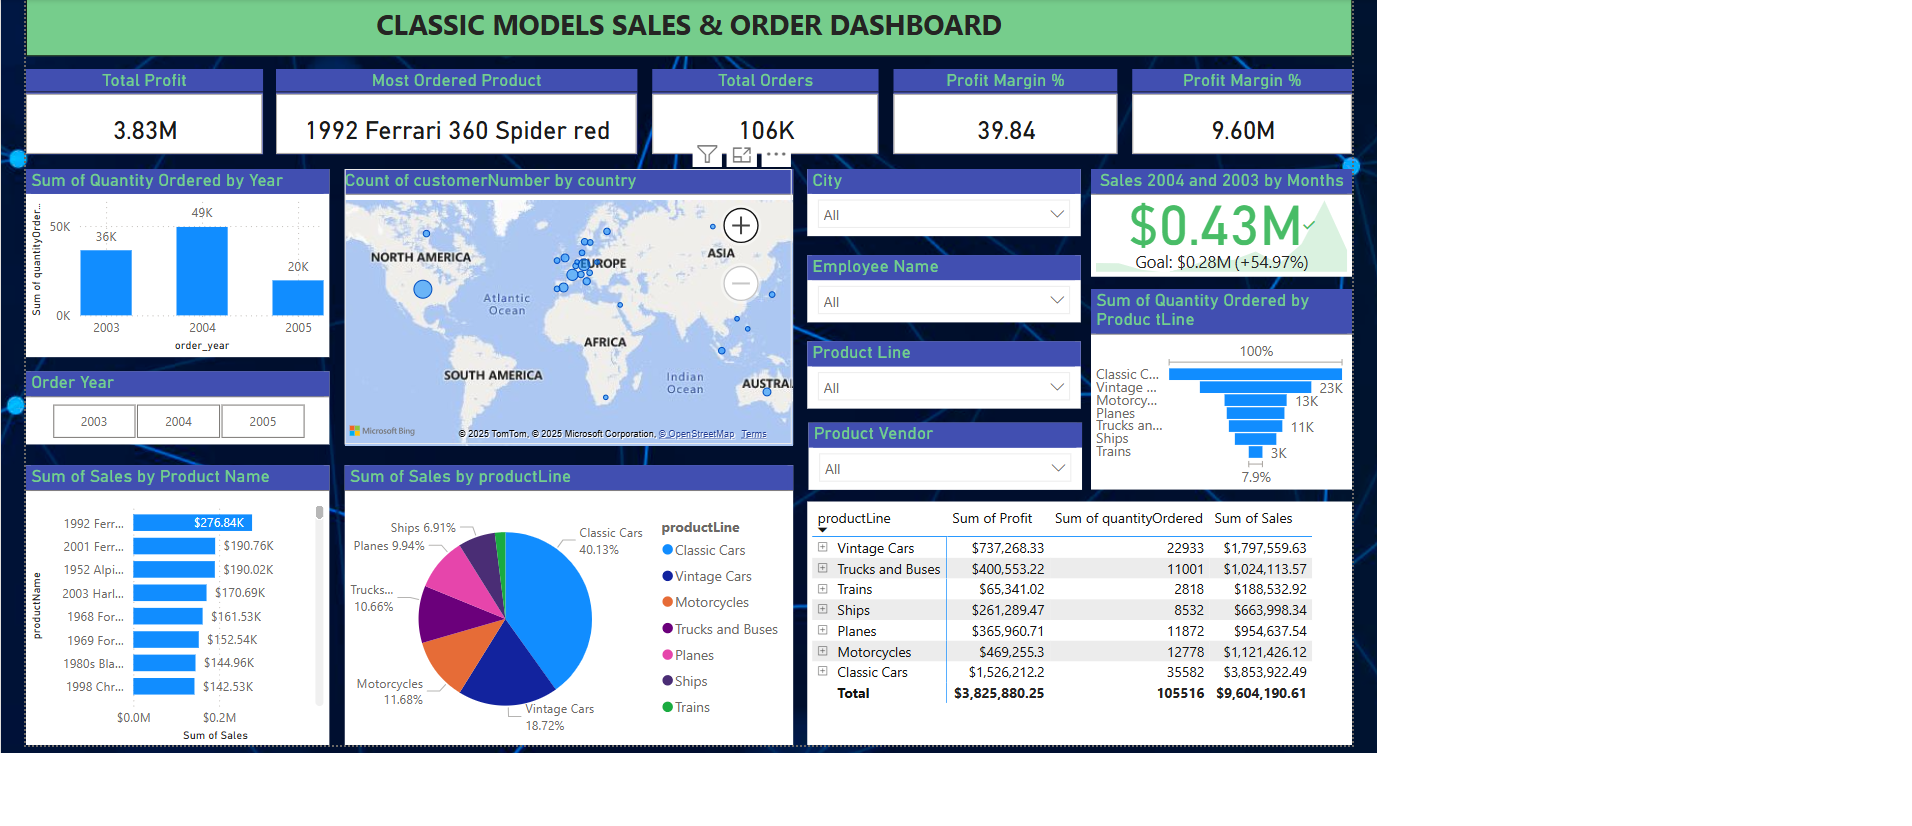

What the dashboard file says about the page in this screenshot:
{"tool":"powerbi","page":{"name":"Page 1","canvas":[1280,720],"ordinal":0},"visuals":[{"type":"cardVisual","title":"Total Profit","fields":{"Data":["classicmodels.total_profit"]},"box":[0,67.5,228.8,82.5],"z":0},{"type":"cardVisual","title":"Most Ordered Product","fields":{"Data":["products.most_ordered_product"]},"box":[241.2,67.5,348.8,82.5],"z":1000},{"type":"barChart","title":"Sum of Sales by Product Name","fields":{"Category":["products.productName"],"Y":["order details.Sales"]},"box":[0,450,292.5,270],"z":2000},{"type":"pieChart","fields":{"Category":["products.productLine"],"Y":["order details.Sales"]},"box":[307.5,450,432.5,270],"z":3000},{"type":"pivotTable","fields":{"Rows":["products.productLine","products.productName"],"Values":["order details.Profit","order details.quantityOrdered","order details.Sales"]},"box":[753.8,485,526.2,235],"z":4000},{"type":"slicer","title":"Order Year","fields":{"Values":["orders.order_year"]},"box":[0,360,292.5,70],"z":5000},{"type":"cardVisual","title":"Total Orders","fields":{"Data":["order details.quantityOrdered"]},"box":[605,67.5,218.8,82.5],"z":6000},{"type":"kpi","title":"Sales 2004 and 2003 by Months","fields":{"Indicator":["classicmodels.sales_2004"],"TrendLine":["orders.Month Name"],"Goal":["classicmodels.sales_2003"]},"box":[1027.5,163.8,252.5,103.8],"z":7000},{"type":"clusteredColumnChart","title":"Sum of Quantity Ordered by Year","fields":{"Category":["orders.order_year"],"Y":["order details.quantityOrdered"]},"box":[0,163.8,292.5,181.2],"z":8000},{"type":"cardVisual","title":"Profit Margin %","fields":{"Data":["classicmodels.Profit_Margin_%"]},"box":[837.5,67.5,216.2,82.5],"z":9000},{"type":"cardVisual","title":"Profit Margin %","fields":{"Data":["order details.Sales"]},"box":[1067.5,67.5,212.5,82.5],"z":10000},{"type":"map","fields":{"Category":["customers.country"],"Size":["customers.customerNumber"]},"box":[307.5,163.8,432.5,266.2],"z":11000},{"type":"slicer","title":"City","fields":{"Values":["offices.city"]},"box":[753.8,163.8,263.8,65],"z":12000},{"type":"slicer","title":"Employee Name","fields":{"Values":["employees.EmpFullName"]},"box":[753.8,247.5,263.8,65],"z":12001},{"type":"slicer","title":"Product Line","fields":{"Values":["products.productLine"]},"box":[753.8,330,263.8,65],"z":12002},{"type":"slicer","title":"Product Vendor","fields":{"Values":["products.productVendor"]},"box":[755,408.8,263.8,65],"z":12003},{"type":"funnel","title":"Sum of Quantity Ordered by Produc tLine","fields":{"Category":["products.productLine"],"Y":["order details.quantityOrdered"]},"box":[1027.5,280,252.5,193.8],"z":12004},{"type":"textbox","box":[0,0,1280,55],"z":12005}]}

Visuals, with their boxes on the page's 1280x720 design canvas (x1, y1, x2, y2). These are canvas units, not pixel positions in the 1912x826 screenshot, which may show the page scaled, cropped or inside an application window:
"Total Profit" cardVisual: region(0, 68, 229, 150)
"Most Ordered Product" cardVisual: region(241, 68, 590, 150)
"Sum of Sales by Product Name" barChart: region(0, 450, 292, 720)
pieChart - products.productLine x order details.Sales: region(308, 450, 740, 720)
pivotTable - products.productLine x products.productName: region(754, 485, 1280, 720)
"Order Year" slicer: region(0, 360, 292, 430)
"Total Orders" cardVisual: region(605, 68, 824, 150)
"Sales 2004 and 2003 by Months" kpi: region(1028, 164, 1280, 268)
"Sum of Quantity Ordered by Year" clusteredColumnChart: region(0, 164, 292, 345)
"Profit Margin %" cardVisual: region(838, 68, 1054, 150)
"Profit Margin %" cardVisual: region(1068, 68, 1280, 150)
map - customers.country x customers.customerNumber: region(308, 164, 740, 430)
"City" slicer: region(754, 164, 1018, 229)
"Employee Name" slicer: region(754, 248, 1018, 312)
"Product Line" slicer: region(754, 330, 1018, 395)
"Product Vendor" slicer: region(755, 409, 1019, 474)
"Sum of Quantity Ordered by Produc tLine" funnel: region(1028, 280, 1280, 474)
textbox: region(0, 0, 1280, 55)
